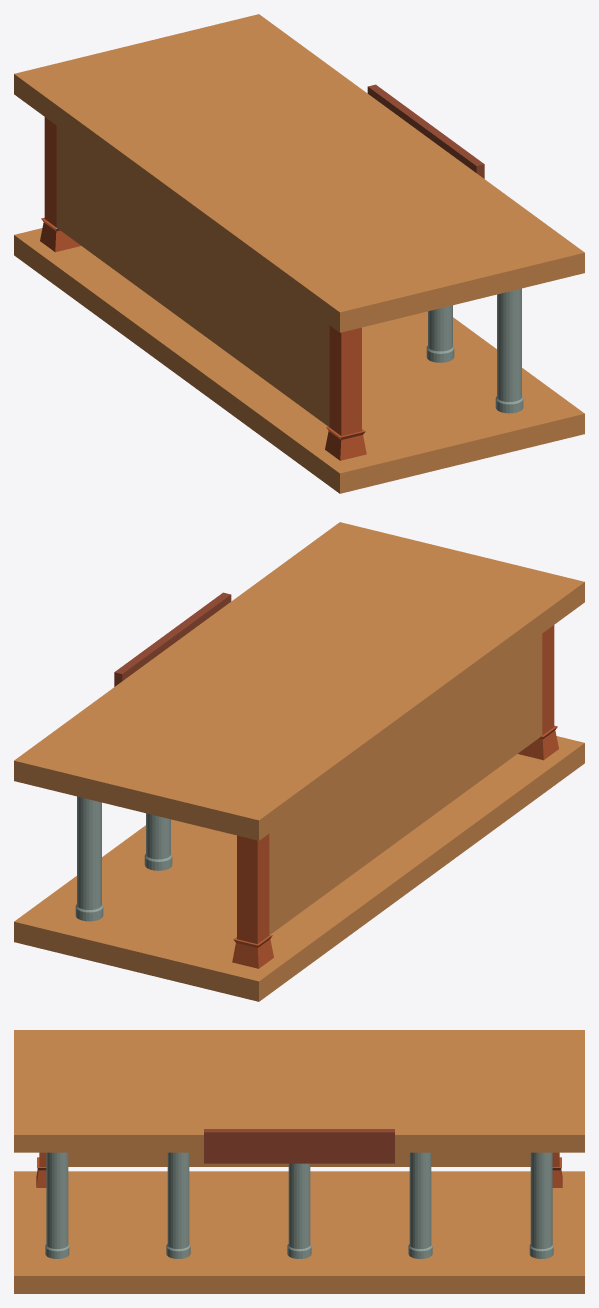
The model's file is FinalTrainStation.fbx.
3 renders of one model, top to bottom at view 1: azimuth 30°, elevation 25°; view 2: azimuth 150°, elevation 25°; view 3: azimuth 270°, elevation 25°, orthographic. The views are drawn at different scales.
Parts seen in each view (by area): view 1: Train Station; view 2: Train Station; view 3: Train Station.
Part boxes in pixels (box(x1,y1,x2,y2)): Train Station: box(14, 14, 584, 493); Train Station: box(14, 522, 584, 1001); Train Station: box(14, 1030, 584, 1293).
Size of the model in its own units: 1058 by 752 by 2358.
